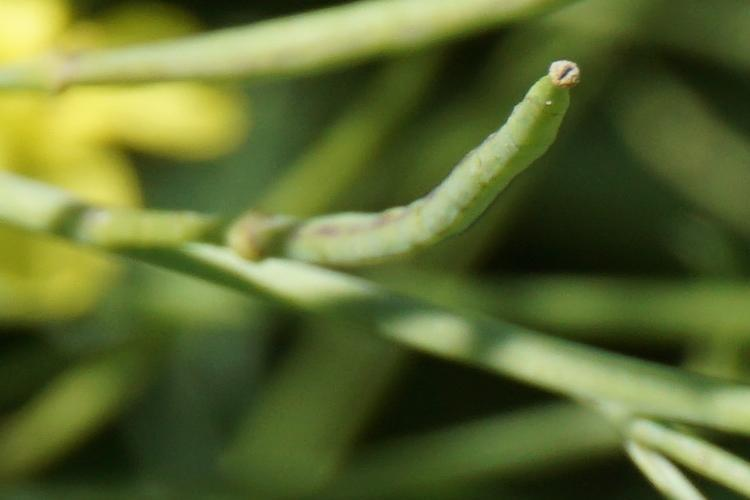pod: (214, 52, 585, 300)
